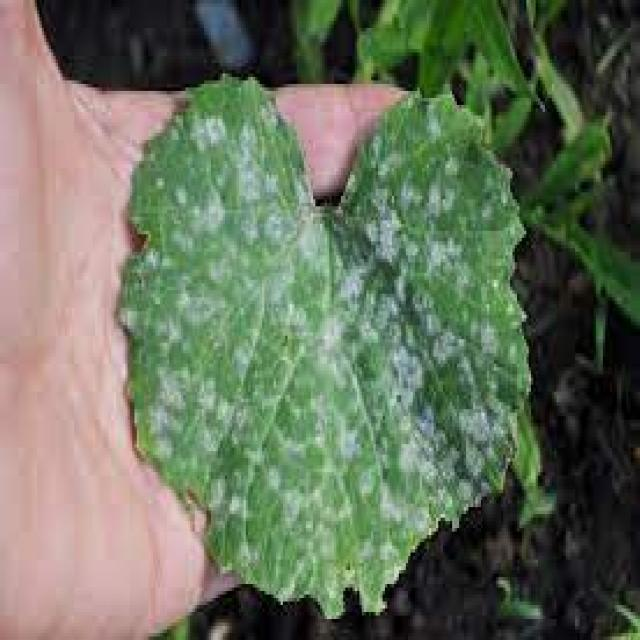powdery-mildew: (165, 144, 473, 534)
